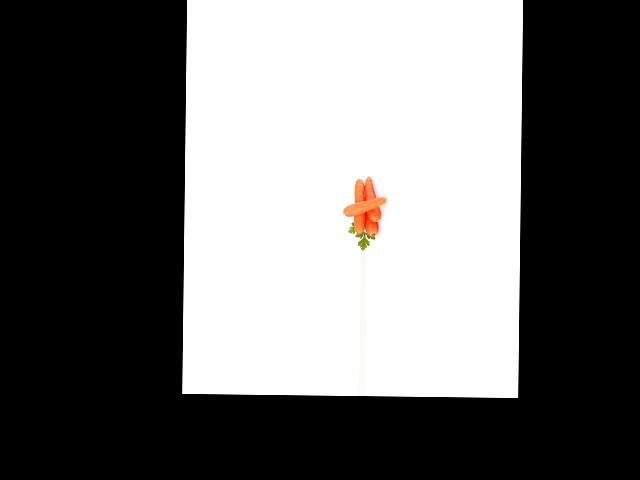carrot: (361, 184, 380, 236)
